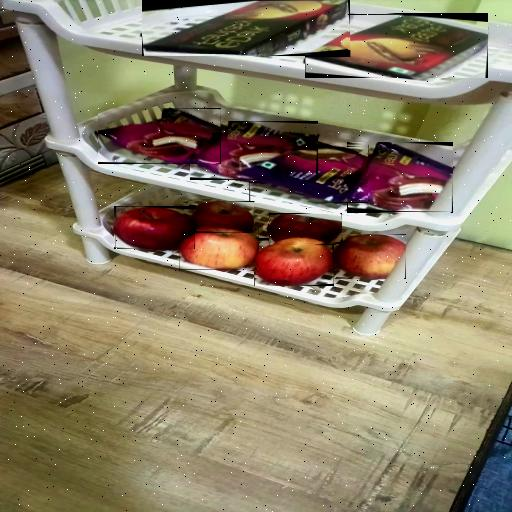Apple: (254, 238, 333, 286), (179, 228, 259, 270), (115, 207, 195, 249), (336, 235, 405, 278), (189, 201, 254, 233), (270, 215, 342, 243)
Choco Fills: (305, 15, 488, 78), (142, 0, 347, 54)
Choco Pie: (190, 121, 318, 179), (348, 142, 453, 212), (98, 108, 221, 164), (249, 148, 368, 203)
